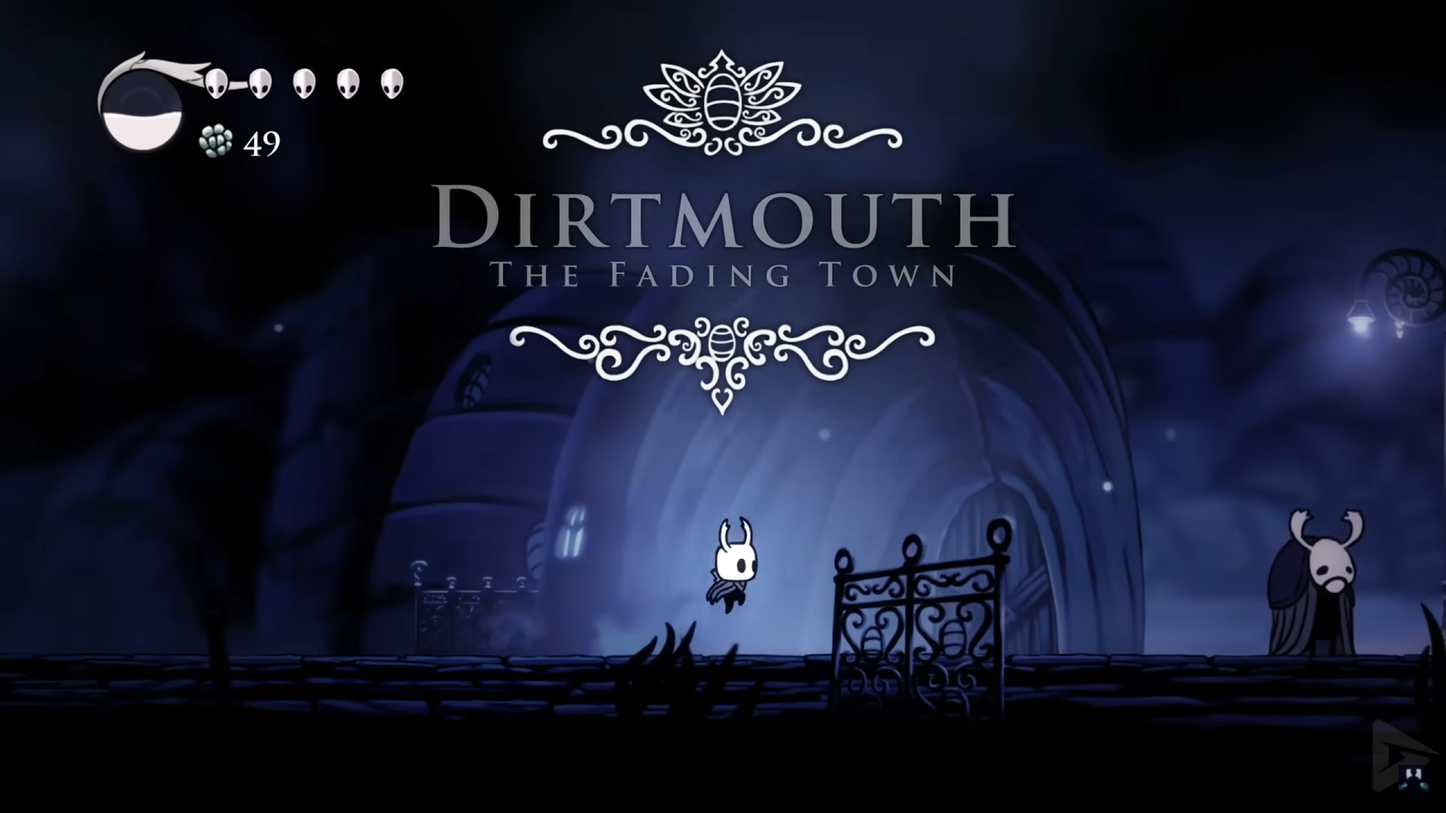HK: (702, 513, 762, 617)
